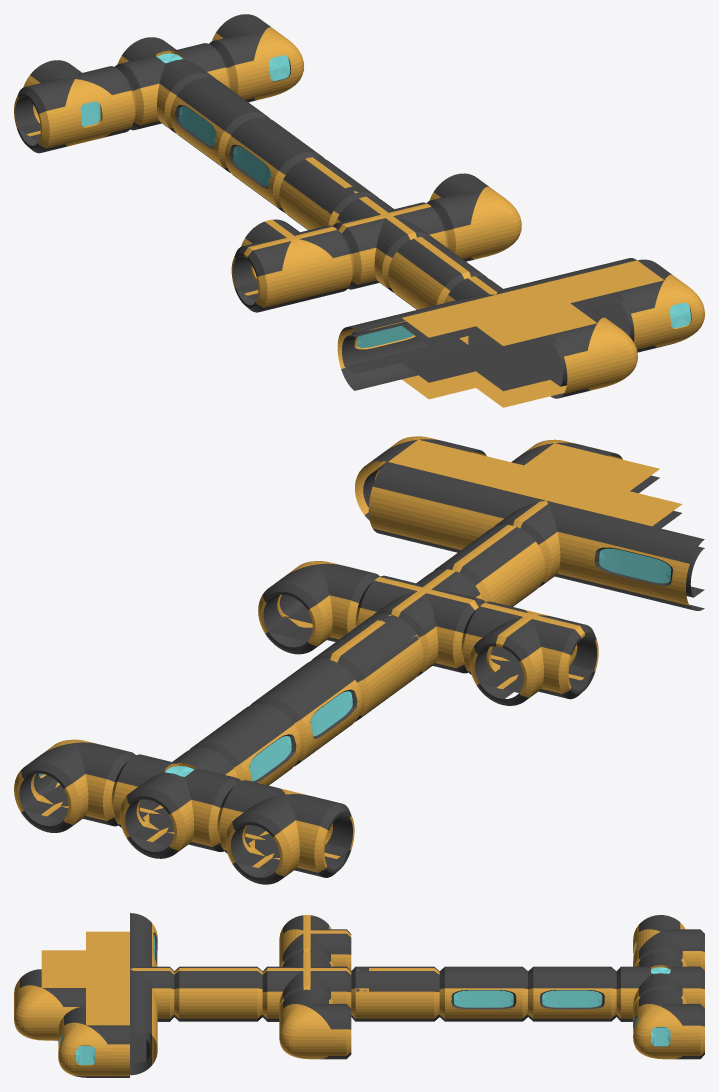
Rendered from AquaStationParts.fbx.
The picture shows the model from 3 angles, top to bottom: view 1: azimuth 30°, elevation 25°; view 2: azimuth 150°, elevation 25°; view 3: azimuth 270°, elevation 25°; orthographic projection. The views are drawn at different scales.
Parts seen in each view (by area): view 1: AquaStation T WithoutWindows, AquaStation T WithWindows, AquaStation X WithWindows, AquaStation X WithoutWindows, Ceiling_2x2, AquaStation |_ WithoutWindows, AquaStation |_ WithWindows, LargeRoomPart I WithWindows, LargeRoomPart |_ WithoutWindows, Floor_2x2, LargeRoomPart |_ WithWindows, AquaStation I_| WithWindows (+9 smaller); view 2: AquaStation T WithWindows, AquaStation T WithoutWindows, AquaStation X WithWindows, LargeRoomPart I WithWindows, AquaStation |_ WithWindows, LargeRoomPart I WithoutWindows, AquaStation |_ WithoutWindows, AquaStation X WithoutWindows, Ceiling_2x2, AquaStation I WithWindows, LargeRoomPart_Exit, AquaStation I WithoutWindows (+6 smaller); view 3: AquaStation I_I WithoutWindows, AquaStation I WithWindows, AquaStation I_| WithWindows, AquaStation |_ WithoutWindows, AquaStation I WithoutWindows, AquaStation |_ WithWindows, LargeRoomPart |_ WithWindows, AquaStation X WithoutWindows, AquaStation X WithWindows, Ceiling_2x2, LargeRoomPart |_ WithoutWindows, AquaStation T WithoutWindows (+7 smaller).
Part boxes in pixels (x1=…): AquaStation T WithoutWindows: x1=231, y1=219, x2=353, y2=312; AquaStation T WithWindows: x1=14, y1=60, x2=136, y2=153; AquaStation X WithWindows: x1=115, y1=37, x2=230, y2=133; AquaStation X WithoutWindows: x1=332, y1=196, x2=448, y2=292; Ceiling_2x2: x1=449, y1=283, x2=596, y2=353; AquaStation |_ WithoutWindows: x1=427, y1=173, x2=521, y2=261; AquaStation |_ WithWindows: x1=209, y1=14, x2=304, y2=102; LargeRoomPart I WithWindows: x1=337, y1=304, x2=448, y2=390; LargeRoomPart |_ WithoutWindows: x1=550, y1=302, x2=637, y2=398; Floor_2x2: x1=449, y1=342, x2=566, y2=407; LargeRoomPart |_ WithWindows: x1=617, y1=259, x2=704, y2=352; AquaStation I_| WithWindows: x1=170, y1=77, x2=269, y2=172; AquaStation T WithWindows: x1=217, y1=780, x2=354, y2=884; AquaStation T WithoutWindows: x1=461, y1=601, x2=598, y2=705; AquaStation X WithWindows: x1=111, y1=747, x2=241, y2=858; LargeRoomPart I WithWindows: x1=580, y1=513, x2=704, y2=610; AquaStation |_ WithWindows: x1=14, y1=739, x2=135, y2=832; LargeRoomPart I WithoutWindows: x1=368, y1=462, x2=492, y2=552; AquaStation |_ WithoutWindows: x1=258, y1=561, x2=379, y2=654; AquaStation X WithoutWindows: x1=355, y1=569, x2=485, y2=676; Ceiling_2x2: x1=494, y1=443, x2=659, y2=513; AquaStation I WithWindows: x1=250, y1=658, x2=361, y2=766; LargeRoomPart_Exit: x1=474, y1=487, x2=598, y2=587; AquaStation I WithoutWindows: x1=311, y1=614, x2=423, y2=721; AquaStation I_I WithoutWindows: x1=174, y1=966, x2=262, y2=1021; AquaStation I WithWindows: x1=439, y1=966, x2=527, y2=1021; AquaStation I_| WithWindows: x1=528, y1=966, x2=616, y2=1021; AquaStation |_ WithoutWindows: x1=279, y1=989, x2=351, y2=1059; AquaStation I WithoutWindows: x1=356, y1=966, x2=439, y2=1021; AquaStation |_ WithWindows: x1=633, y1=989, x2=704, y2=1059; LargeRoomPart |_ WithWindows: x1=58, y1=1006, x2=129, y2=1077; AquaStation X WithoutWindows: x1=262, y1=952, x2=351, y2=1021; AquaStation X WithWindows: x1=616, y1=952, x2=704, y2=1021; Ceiling_2x2: x1=41, y1=950, x2=129, y2=987; LargeRoomPart |_ WithoutWindows: x1=14, y1=969, x2=85, y2=1040; AquaStation T WithoutWindows: x1=279, y1=915, x2=351, y2=970.
Bounding box in the file's own units: 1325 × 250 × 3125.
